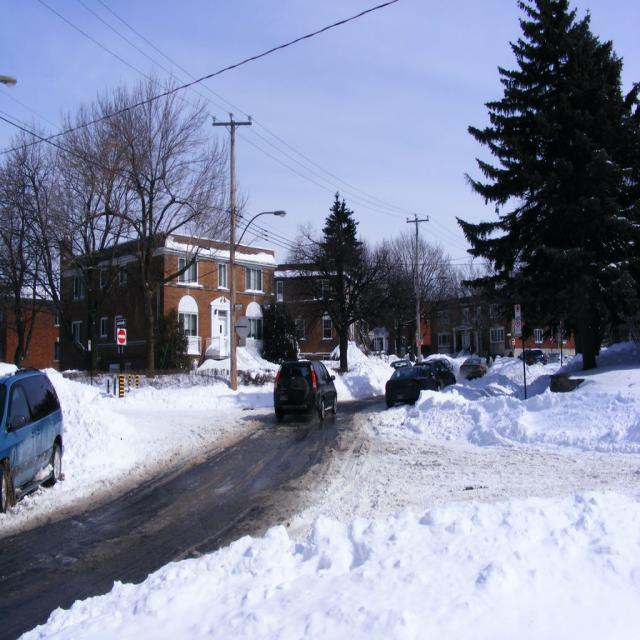car: (272, 358, 336, 419)
